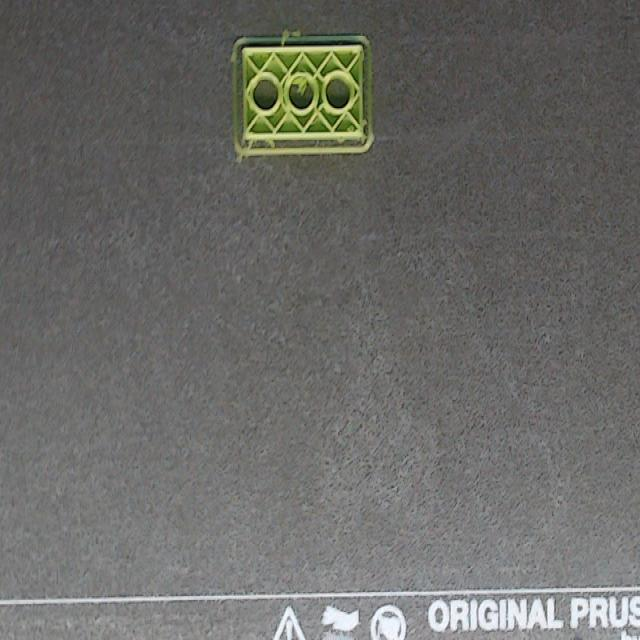mistake: (289, 75, 312, 99), (244, 133, 280, 148), (279, 29, 304, 41), (334, 137, 371, 145)
